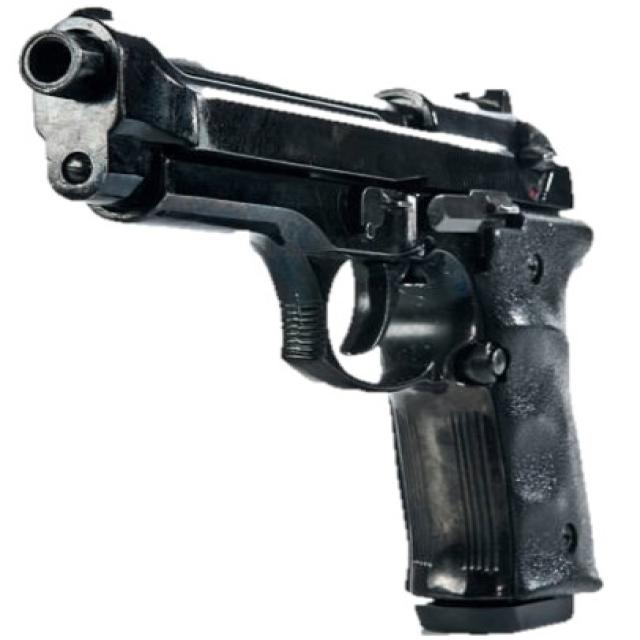pistol: (11, 1, 640, 640)
